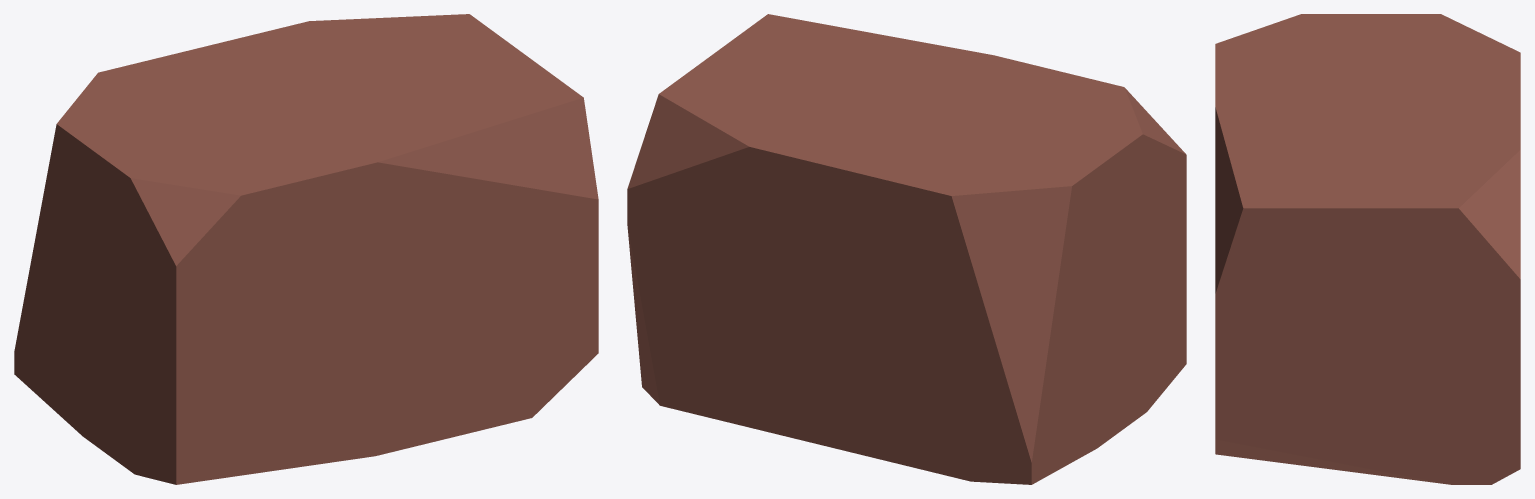
File: Brick_B_03.FBX
The picture shows the model from 3 angles, left to right: view 1: azimuth 30°, elevation 25°; view 2: azimuth 150°, elevation 25°; view 3: azimuth 270°, elevation 25°; orthographic projection. The views are drawn at different scales.
Parts seen in each view (by area): view 1: Brick_B_03; view 2: Brick_B_03; view 3: Brick_B_03.
Part boxes in pixels (x1,y1,x2,y2): Brick_B_03: (14,14,598,484); Brick_B_03: (627,14,1186,484); Brick_B_03: (1215,14,1520,484).
Bounding box in the file's own units: 1.13 × 0.7527 × 0.7527.
